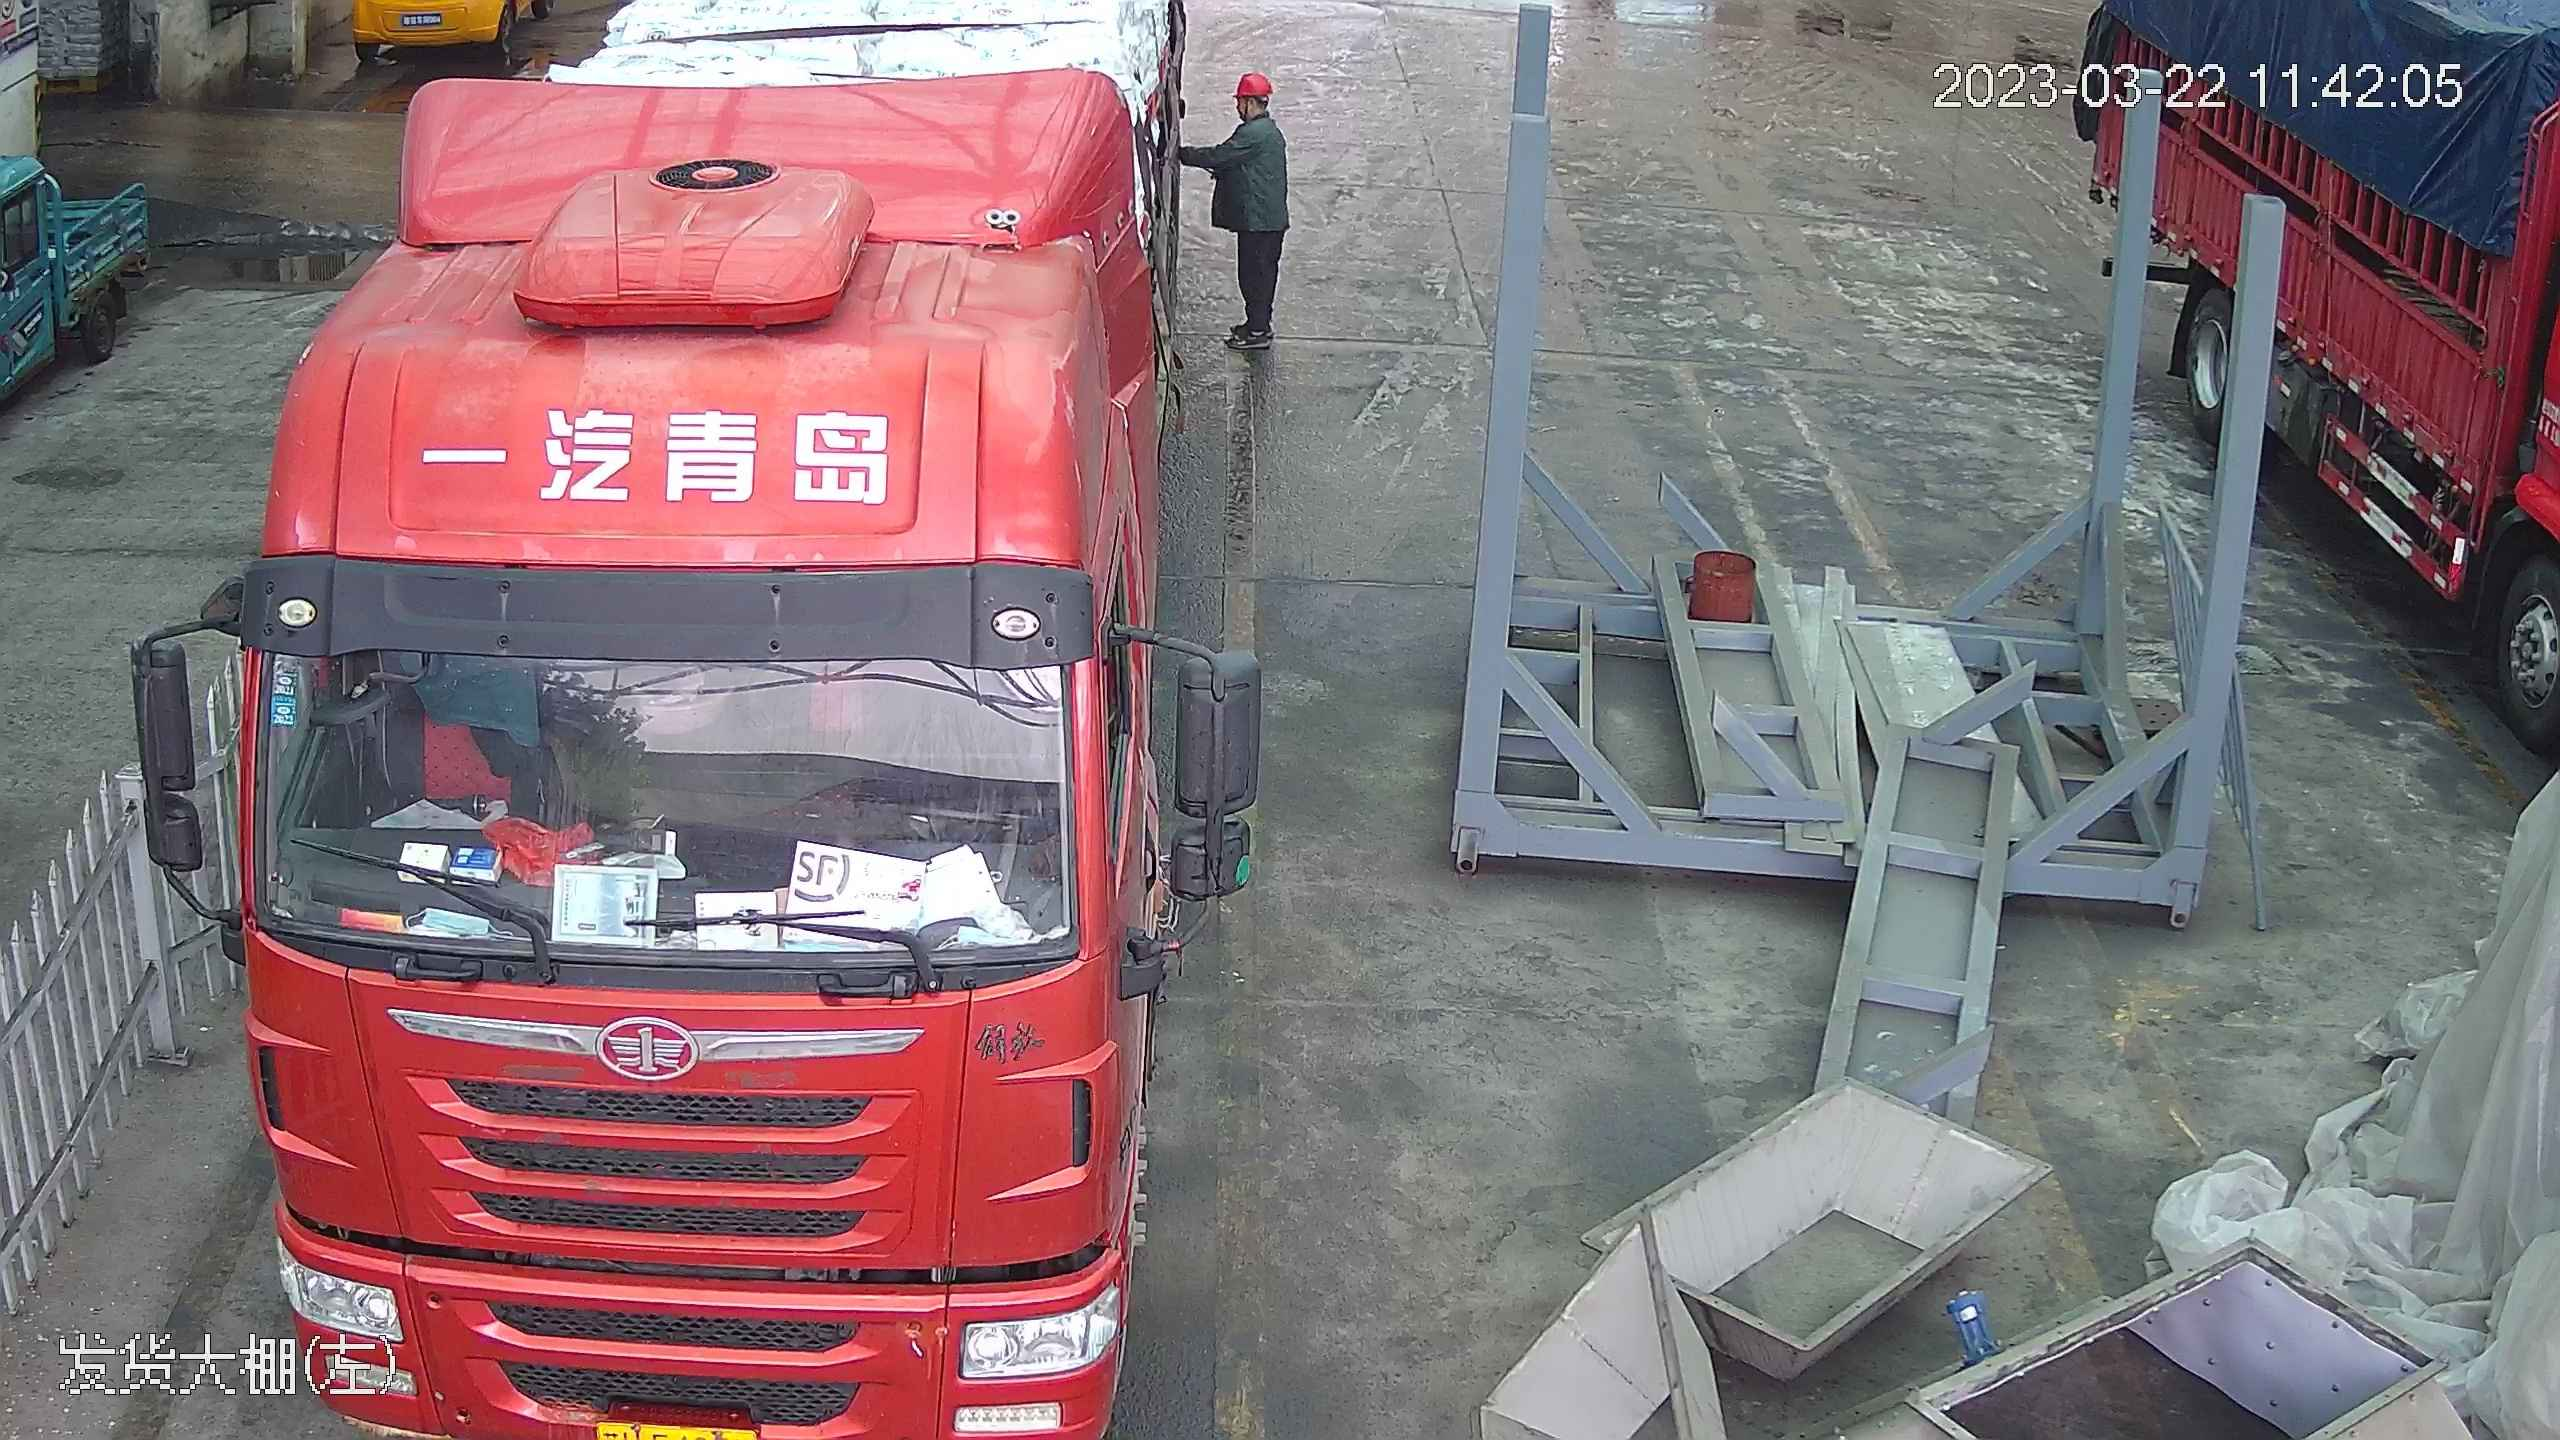head: (1213, 67, 1290, 155)
helmet: (1233, 68, 1273, 97)
people: (1200, 65, 1297, 346)
truck: (172, 11, 1285, 1436), (2084, 0, 2558, 769)
